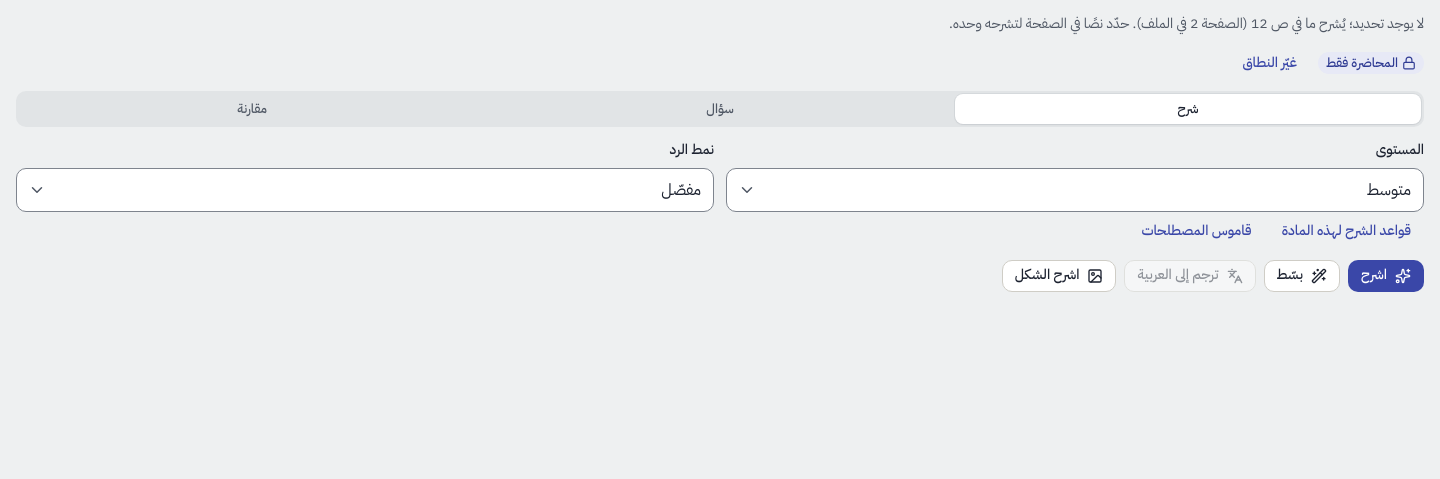
Scenario: ExplainTab — streaming (H4) › «أوقف» cancels the request; nothing of the draft stays on screen
Click the button "اشرح" at [1386, 276], box [1348, 260, 1424, 292]
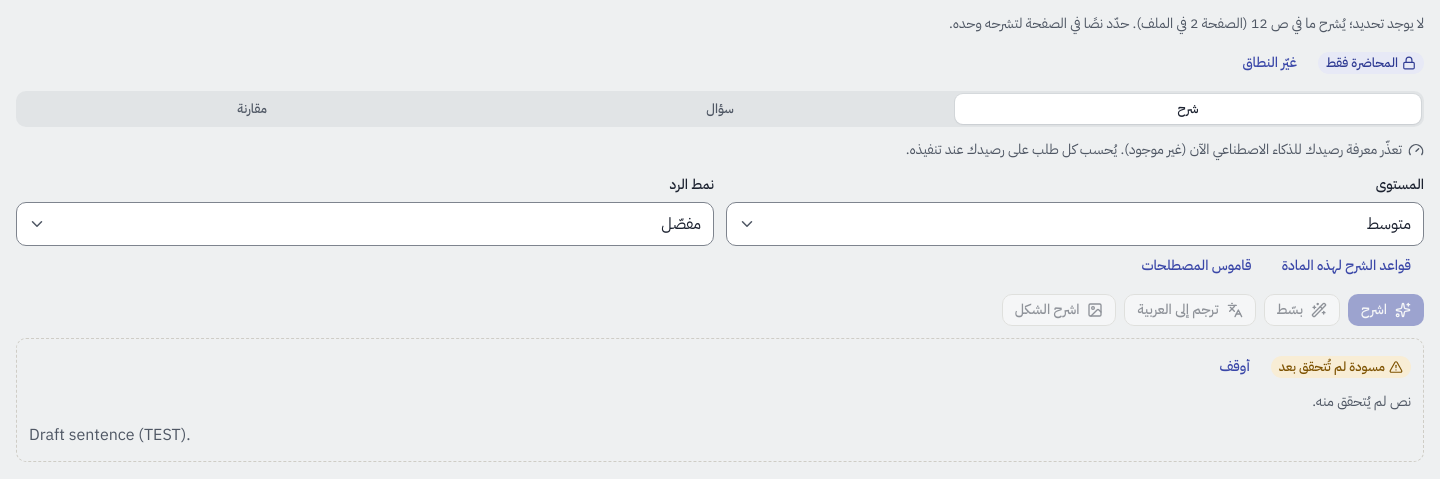
Expected: the text "Draft sentence (TEST)." is shown, [29, 423, 191, 447]
Click the button "أوقف" at [1235, 367], box [1206, 351, 1263, 383]
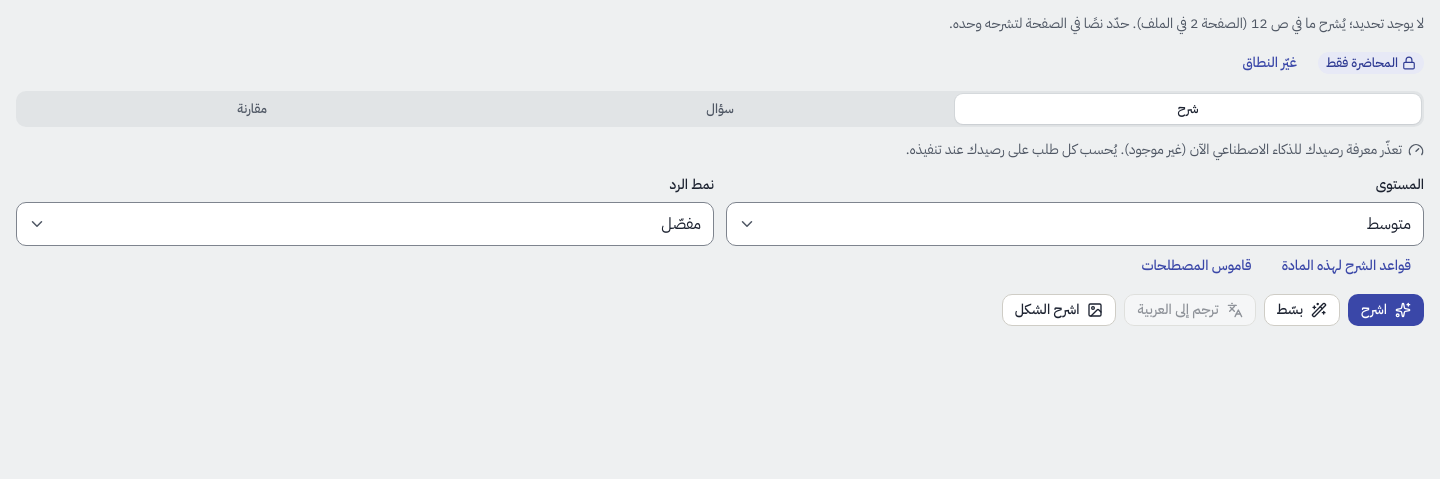
Expected: the text "Draft sentence (TEST)." is gone
